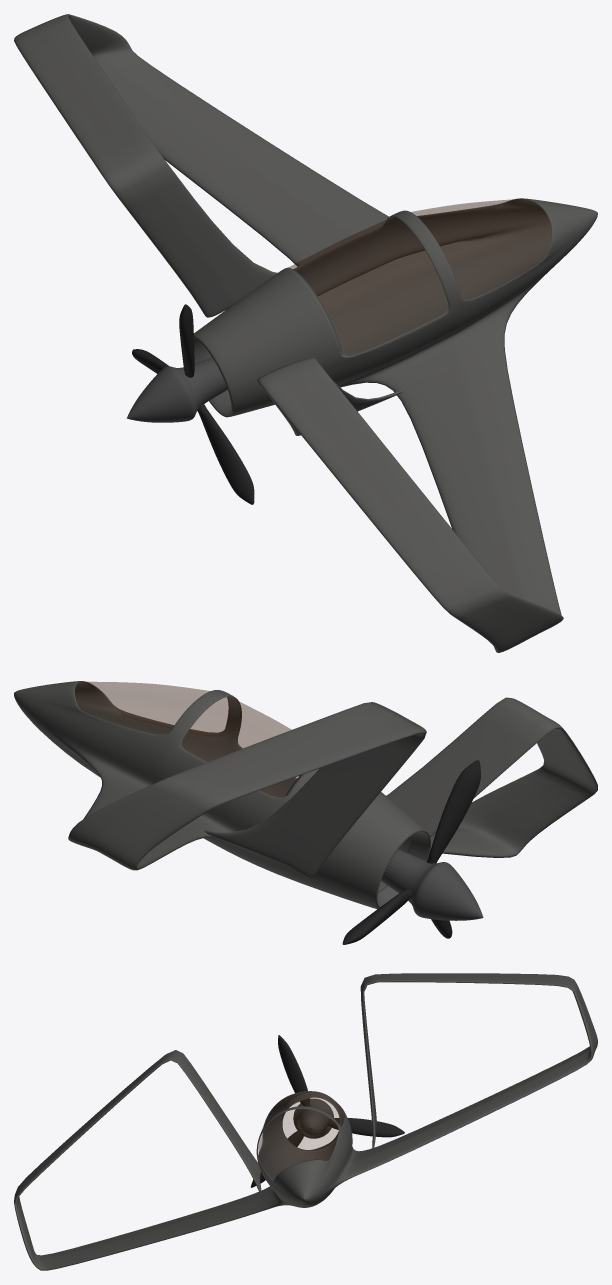
File: synergy.gltf
3 views of the same model, one above another, from view 1: azimuth 30°, elevation 25°; view 2: azimuth 150°, elevation 25°; view 3: azimuth 270°, elevation 25° (orthographic). The views are drawn at different scales.
Parts seen in each view (by area): view 1: Cylinder.006, Cylinder.010, Cylinder.011, Cone.001, Cylinder.007, Cylinder.009; view 2: Cylinder.006, Cylinder.011, Cone.001, Cylinder.010, Cylinder.009, Cylinder.008; view 3: Cylinder.006, Cylinder.011, Cone.001, Cylinder.010, Cylinder.009, Cylinder.008.
Boxes of the visible parts, x1=… form: Cylinder.006: x1=14, y1=14, x2=597, y2=652; Cylinder.010: x1=288, y1=217, x2=448, y2=355; Cylinder.011: x1=398, y1=199, x2=551, y2=299; Cone.001: x1=126, y1=357, x2=227, y2=422; Cylinder.007: x1=197, y1=404, x2=254, y2=504; Cylinder.009: x1=179, y1=304, x2=194, y2=377; Cylinder.006: x1=14, y1=681, x2=597, y2=909; Cylinder.011: x1=75, y1=682, x2=229, y2=736; Cone.001: x1=381, y1=849, x2=483, y2=920; Cylinder.010: x1=182, y1=697, x2=298, y2=796; Cylinder.009: x1=427, y1=760, x2=480, y2=863; Cylinder.008: x1=342, y1=888, x2=411, y2=944; Cylinder.006: x1=14, y1=973, x2=597, y2=1270; Cylinder.011: x1=258, y1=1109, x2=338, y2=1180; Cone.001: x1=293, y1=1098, x2=333, y2=1138; Cylinder.010: x1=259, y1=1093, x2=343, y2=1152; Cylinder.009: x1=278, y1=1035, x2=310, y2=1106; Cylinder.008: x1=327, y1=1118, x2=404, y2=1137.
Size of what is drawn, in the model's own units: 2.59 by 1.97 by 4.09.
